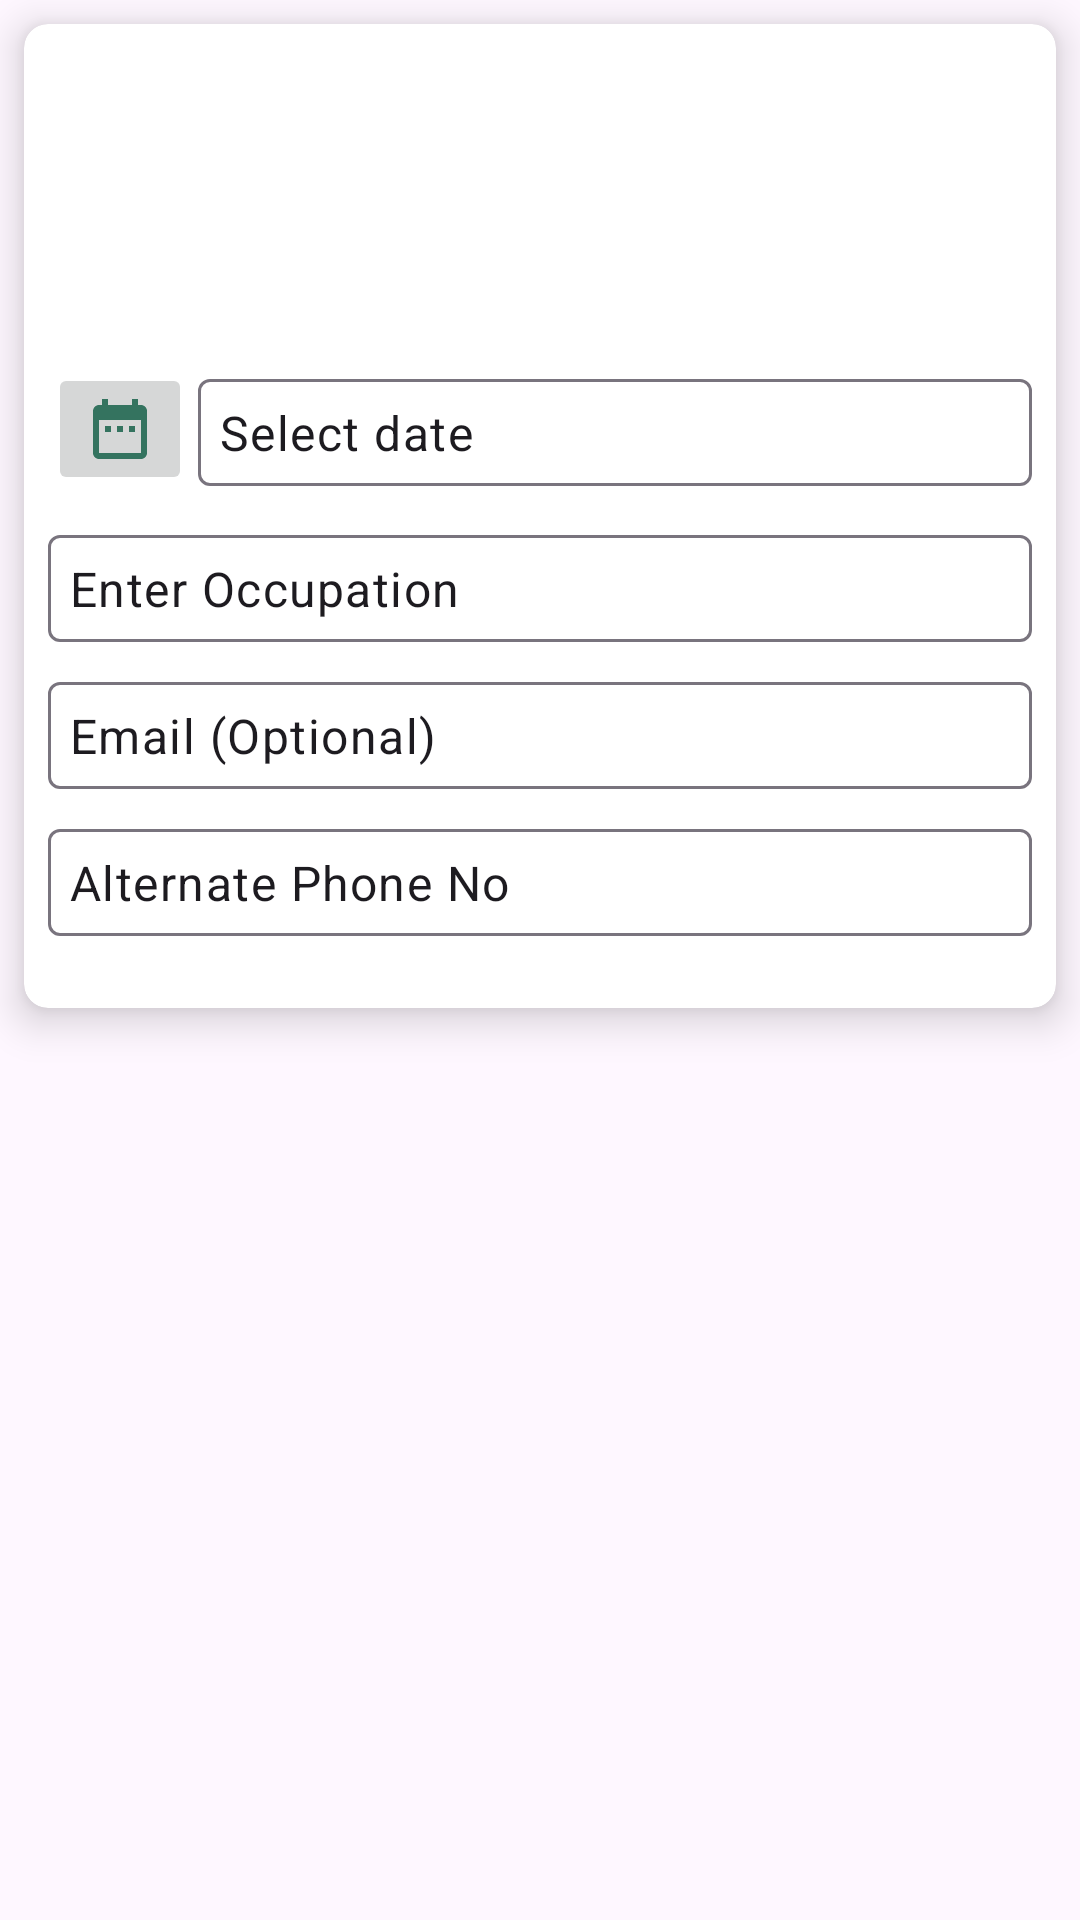

Where to tap for icons on this 1080px×1920px app screen, as point (x, y):
Calender: point (120, 429)
